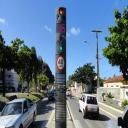speed_limit_40: (56, 54, 65, 70)
